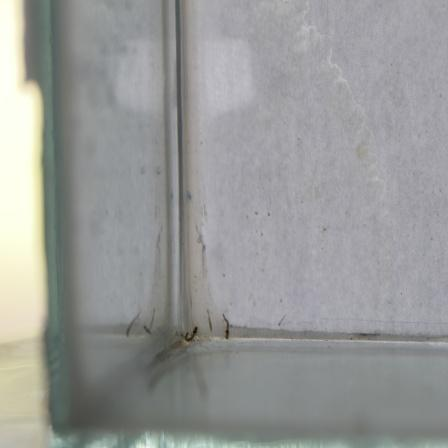Jentik-Nyamuk: (219, 311, 235, 344), (181, 323, 199, 346)
